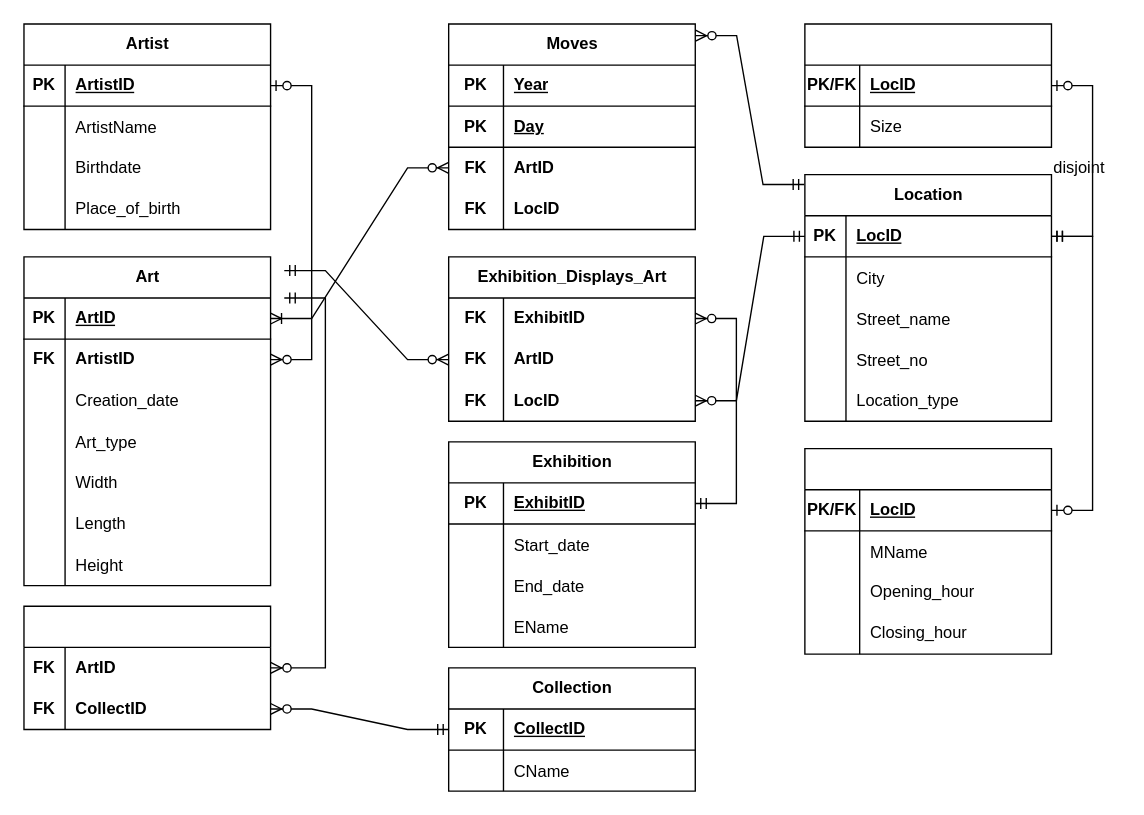
The diagram is 1144 pixels wide and 815 high, and some of its shapes have lost their labels. Each missing label, with the box of its shape:
Collection_Has_Art: (23, 605, 271, 730)
Museum: (804, 447, 1051, 654)
Storage_Site: (804, 23, 1051, 147)
